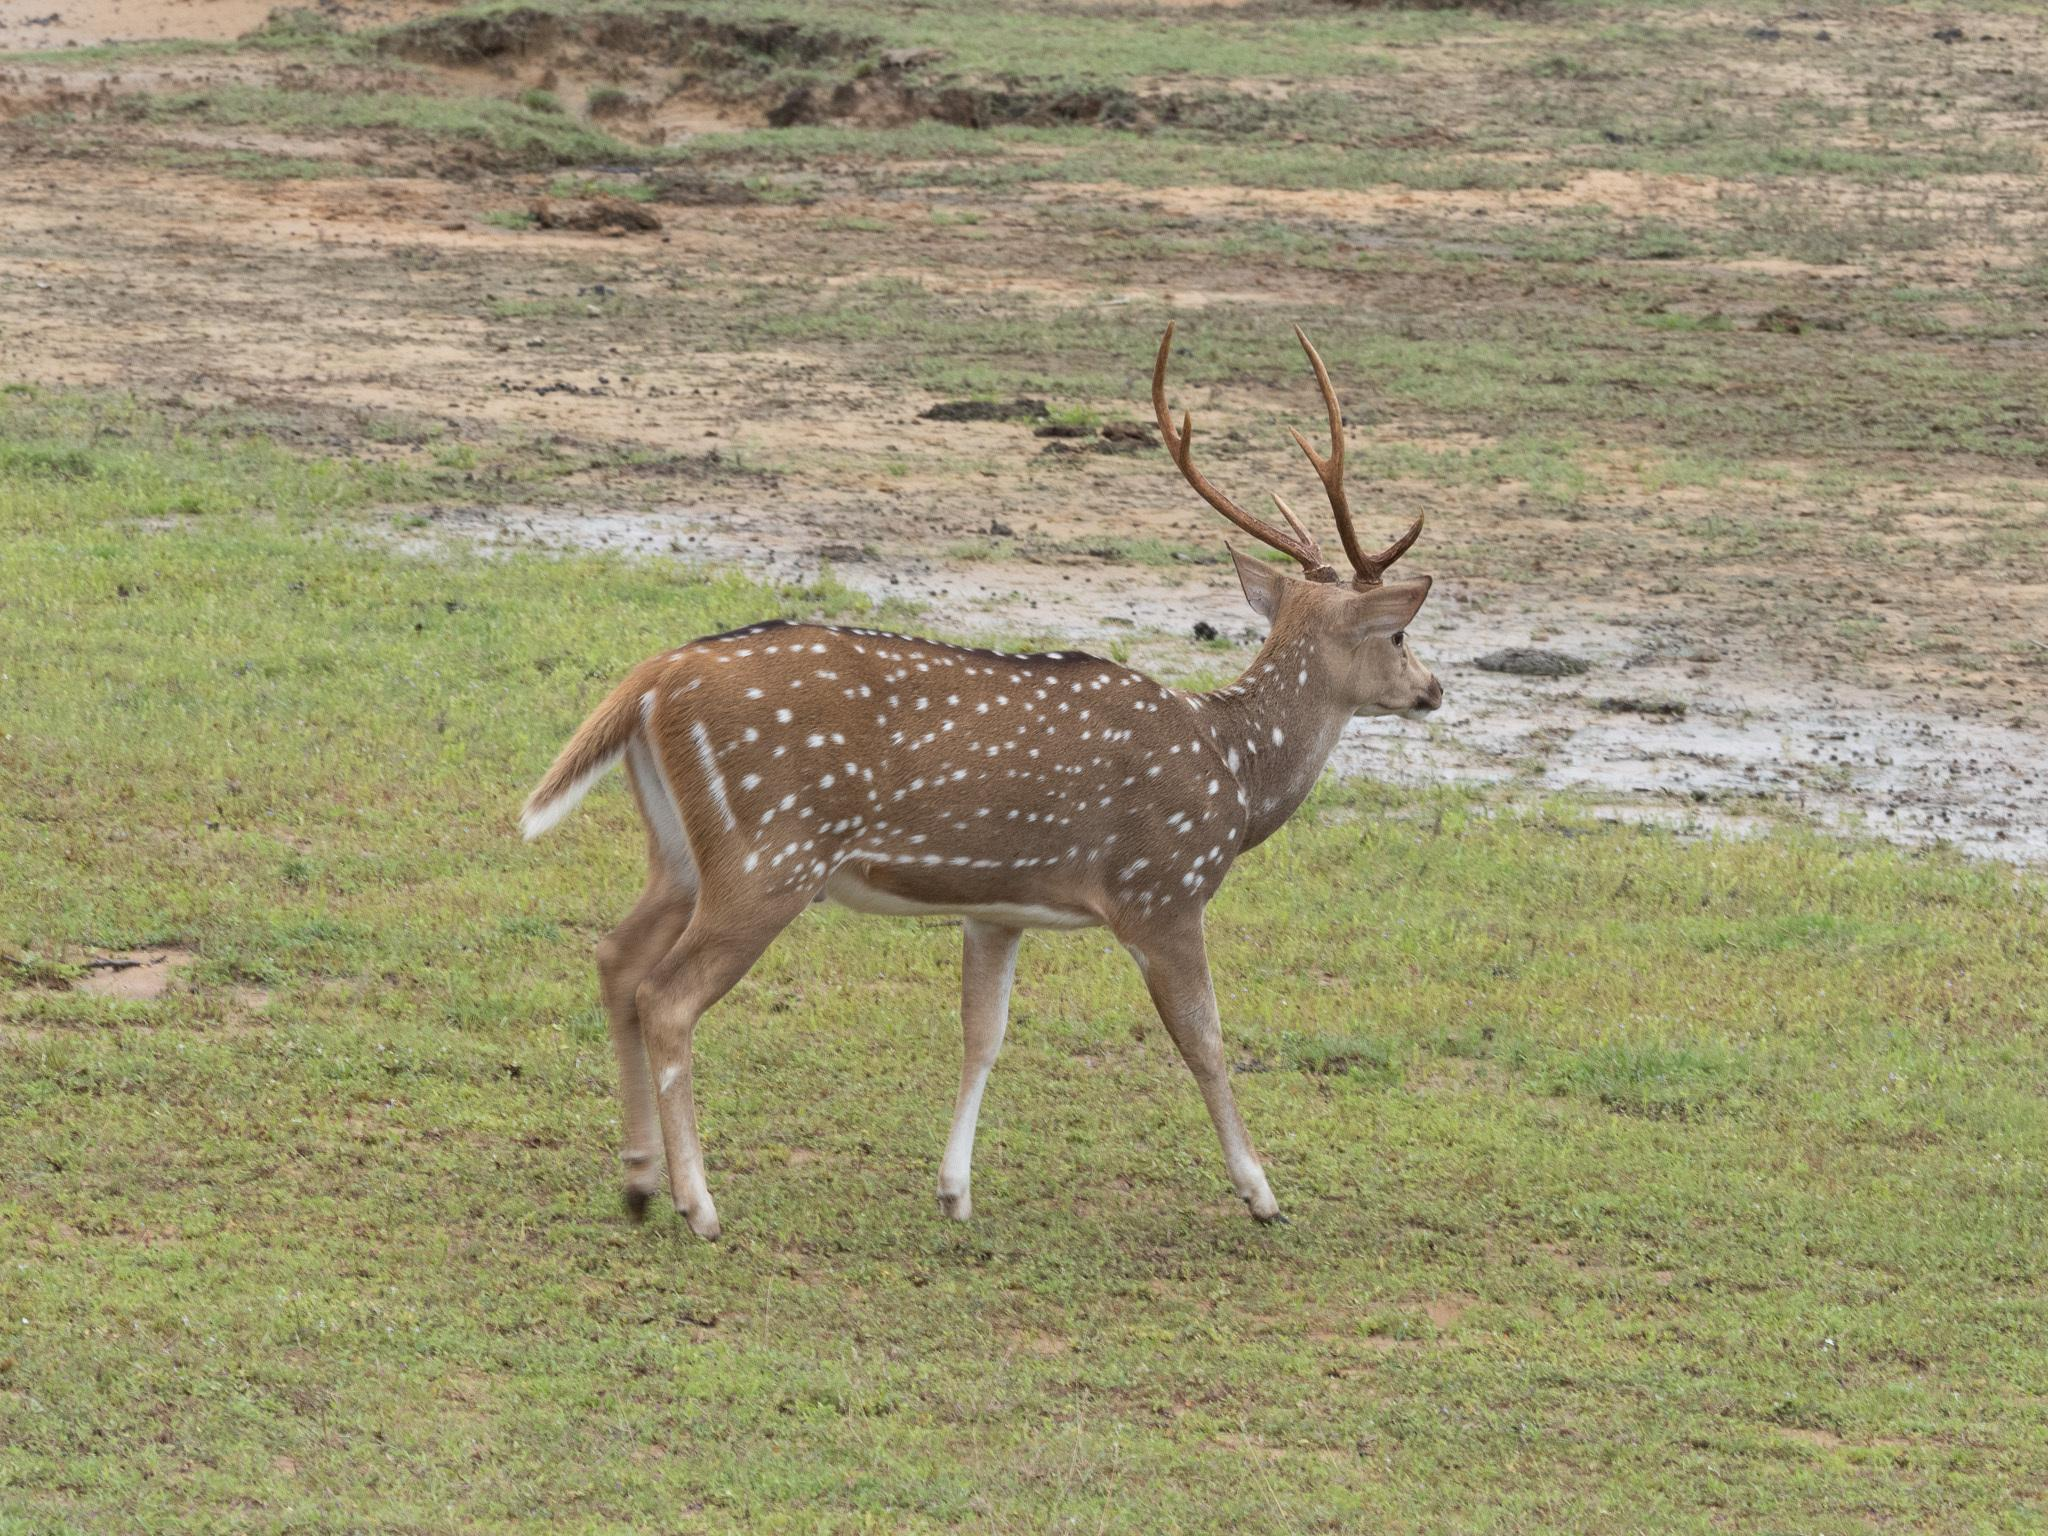Deer: (522, 326, 1443, 1238)
